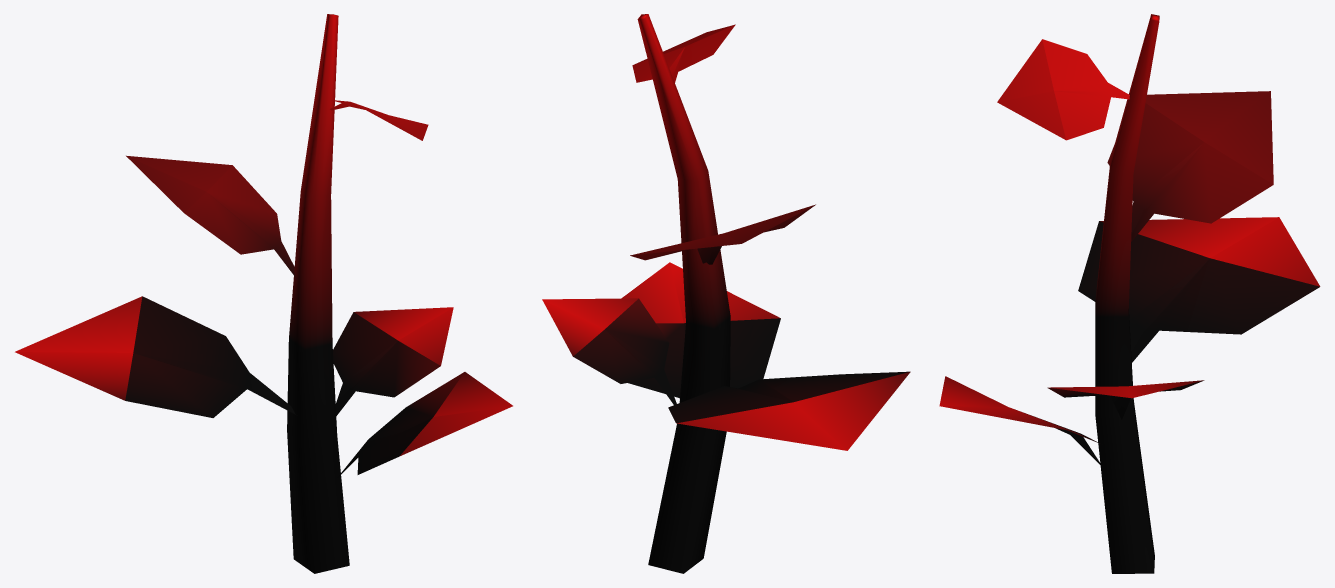
File: SM_Branch_04_LOD1.fbx
3 views of the same model, side by side, from view 1: azimuth 30°, elevation 25°; view 2: azimuth 150°, elevation 25°; view 3: azimuth 270°, elevation 25° (orthographic). The views are drawn at different scales.
Parts seen in each view (by area): view 1: Branch_04_LOD1; view 2: Branch_04_LOD1; view 3: Branch_04_LOD1.
Boxes of the visible parts, x1,y1,x2,y2 form: Branch_04_LOD1: (15,14,512,573); Branch_04_LOD1: (542,14,910,573); Branch_04_LOD1: (939,14,1320,573).
Size of the model in its own units: 57.99 by 80.63 by 49.7.
